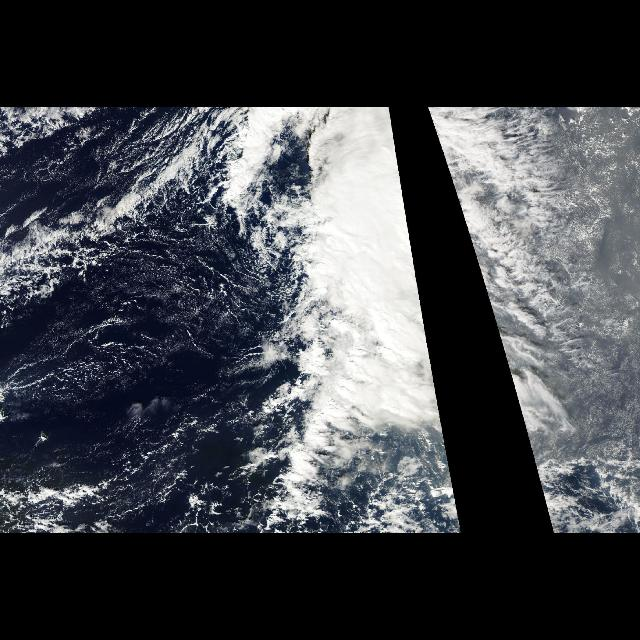Fish: (4, 113, 188, 465)
Gravel: (2, 108, 260, 524)
Sugar: (544, 109, 638, 458), (9, 332, 177, 398)
